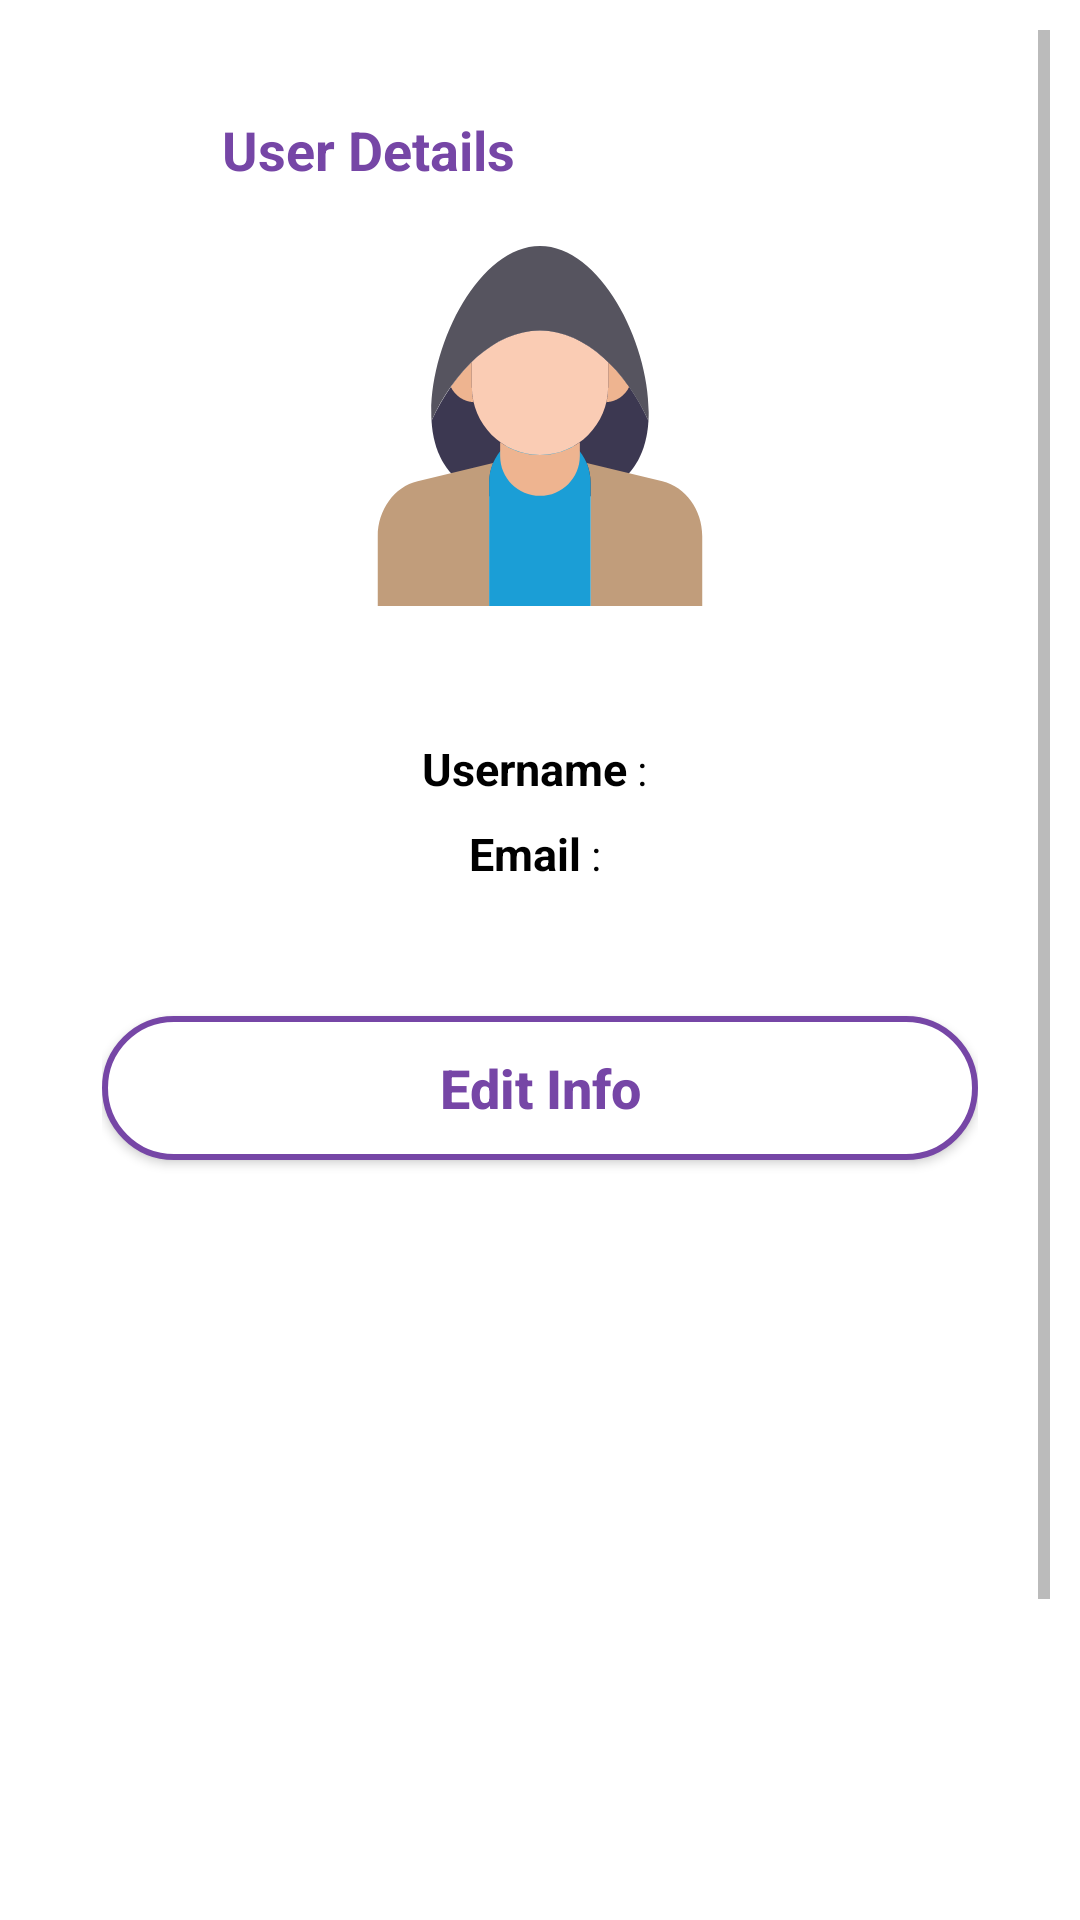

Where icons sit on this 1080px×1920px app screen, as {"left": x1, "top": y1, "right": x2, "bottom": y2}:
profile: {"left": 377, "top": 246, "right": 703, "bottom": 606}
